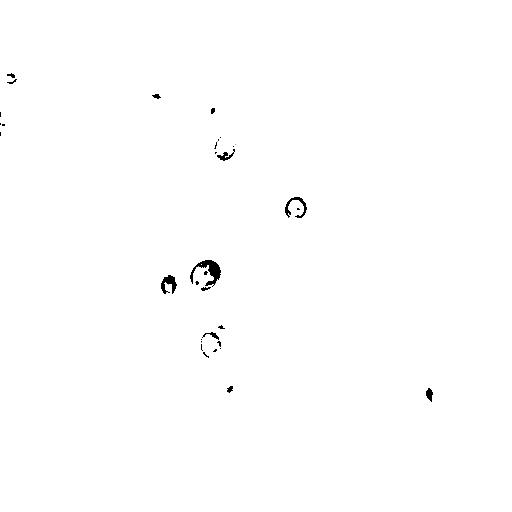micro-algae: (424, 0, 484, 56), (220, 370, 255, 412), (189, 259, 223, 292), (155, 256, 181, 288), (212, 132, 237, 164), (267, 158, 290, 188), (198, 332, 222, 359), (284, 196, 308, 221), (160, 274, 180, 295), (423, 383, 440, 407), (0, 112, 12, 139), (2, 72, 18, 84), (208, 103, 218, 118)
